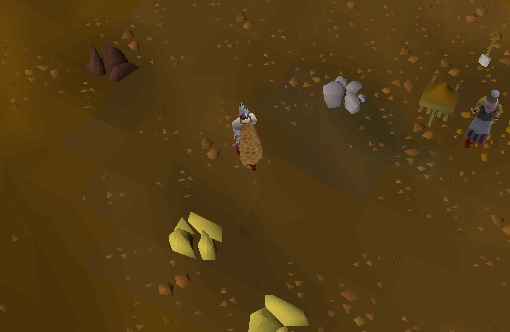gold: (157, 205, 235, 272)
iron: (78, 36, 148, 94)
